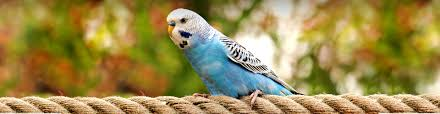budgie: (164, 8, 300, 108)
